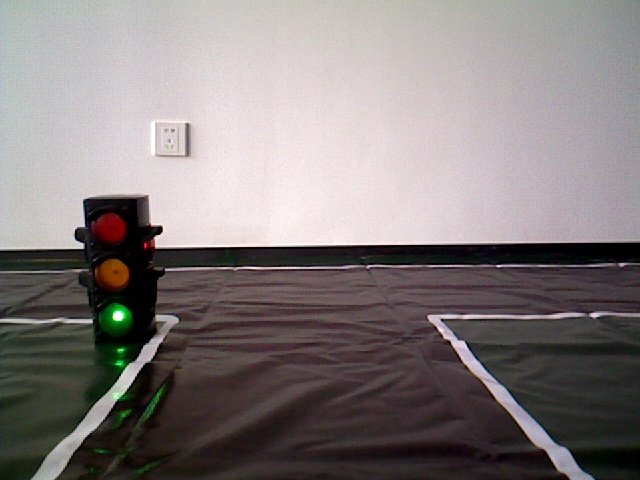green: (89, 197, 150, 331)
